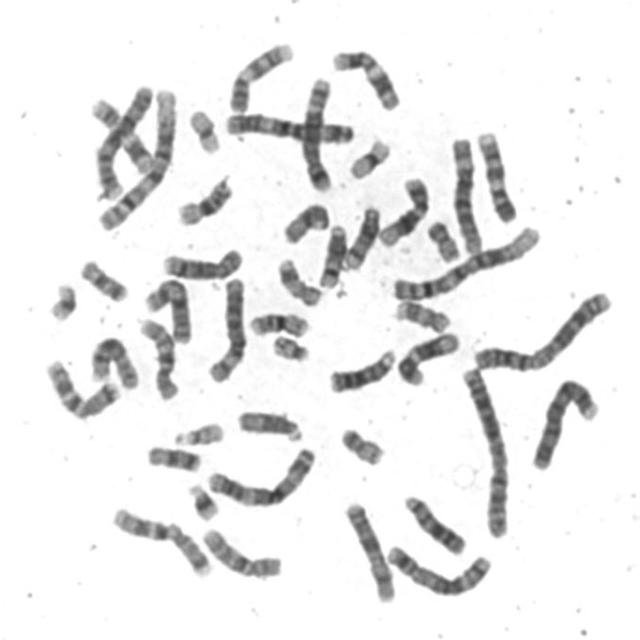A1: (90, 80, 180, 234), (385, 218, 543, 303)
A2: (466, 283, 616, 375), (456, 360, 512, 540)
A3: (201, 440, 319, 510), (218, 104, 358, 147)
B4: (88, 77, 155, 202), (524, 371, 602, 473)
B5: (380, 538, 493, 598), (296, 72, 336, 192)
C10: (196, 520, 285, 582), (133, 311, 182, 402)
C11: (83, 90, 156, 175), (326, 42, 402, 112)
C12: (372, 170, 432, 249), (391, 324, 463, 388)
C6: (200, 270, 250, 384), (444, 130, 486, 256)
C7: (105, 500, 214, 579), (38, 352, 122, 421)
C8: (156, 241, 246, 281), (84, 329, 140, 392)
C9: (222, 34, 296, 114), (471, 124, 520, 224)
D13: (398, 488, 468, 558), (322, 341, 398, 395)
D14: (337, 198, 383, 272), (313, 217, 349, 290)
D15: (231, 402, 306, 444), (276, 196, 332, 246)
E16: (170, 169, 236, 228), (244, 306, 312, 339)
E17: (271, 252, 325, 308), (388, 293, 453, 334)
E18: (74, 252, 131, 304), (140, 438, 203, 474)
F19: (343, 132, 392, 182), (182, 102, 222, 156)
F20: (334, 420, 388, 468), (420, 214, 462, 264)
G21: (182, 476, 221, 523), (42, 276, 80, 324)
G22: (168, 415, 226, 447), (266, 329, 312, 363)
X: (338, 496, 398, 604), (138, 271, 194, 345)
